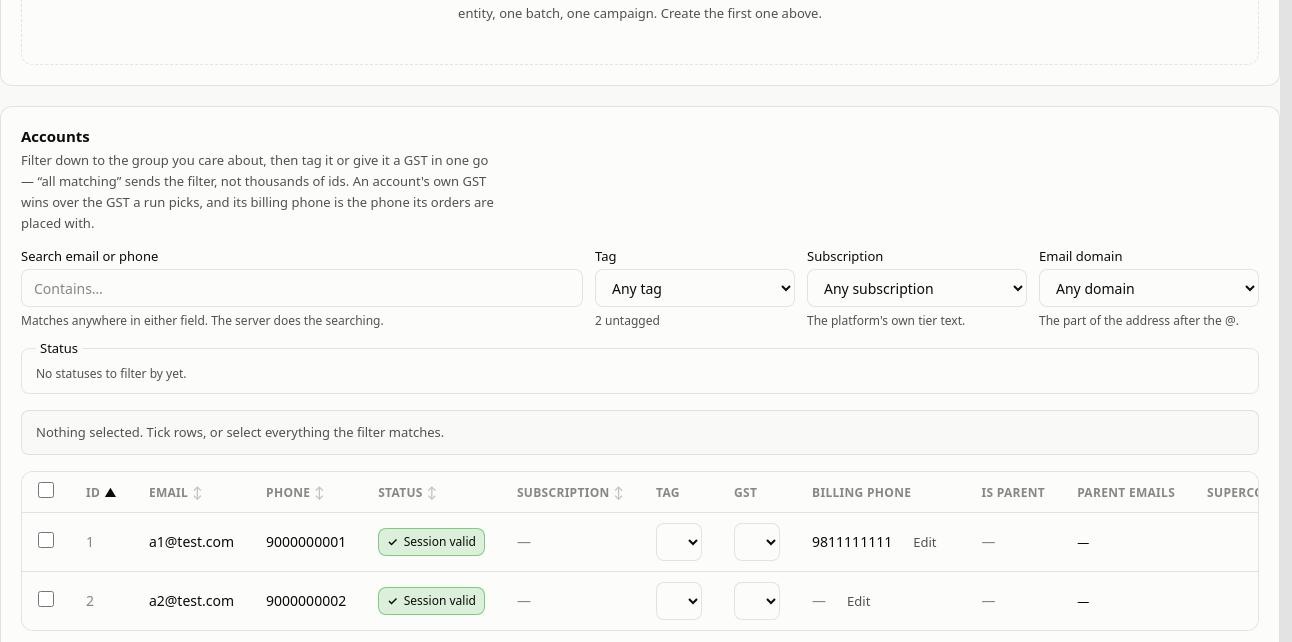
Scenario: Accounts: an account's own GST and billing phone › takes the selection's own GST off with the run's-GST choice
The width and height of the screenshot is (1292, 642).
(page scrolled)
Expected: the text "a2@test.com" is shown, [149,591,234,611]
Expected: the dropdown named "GST for a2@test.com" is enabled, [734,582,780,620]
Click the checkbox named "Select a1@test.com" in the row of "a1@test.com" at (46, 540), box [38,532,54,548]
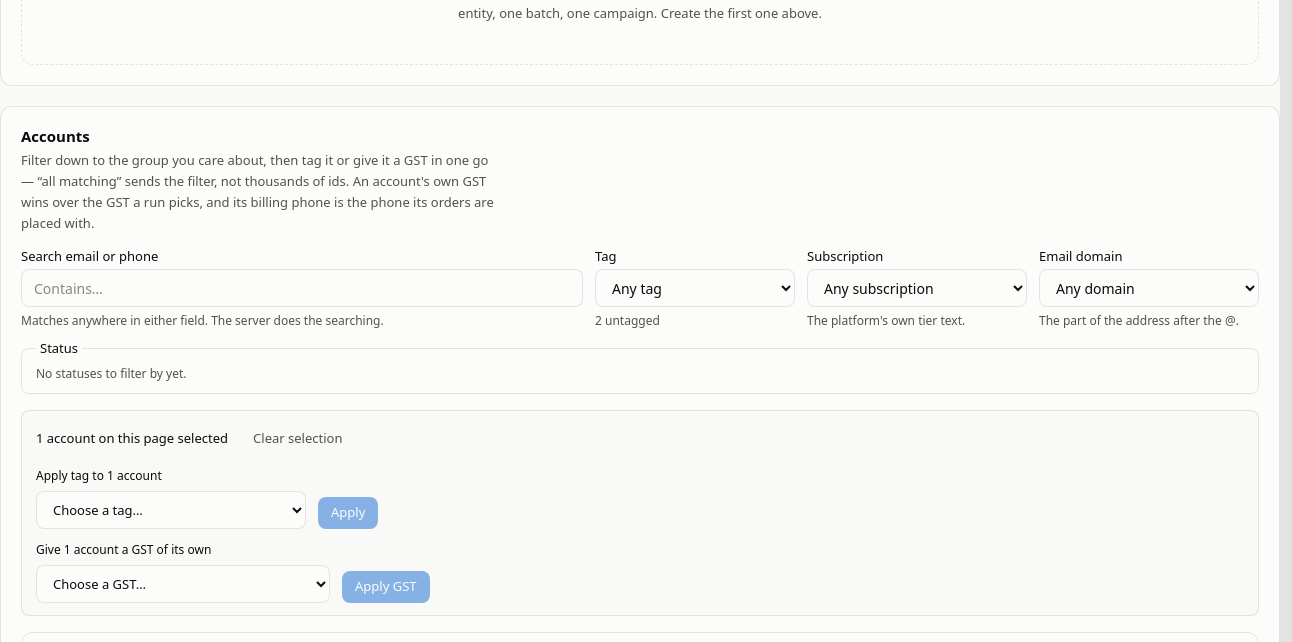
Select "None of their own (use the run's GST)" in the dropdown labelled "Give 1 account a GST of its own" at (183, 584), box [36,565,330,603]
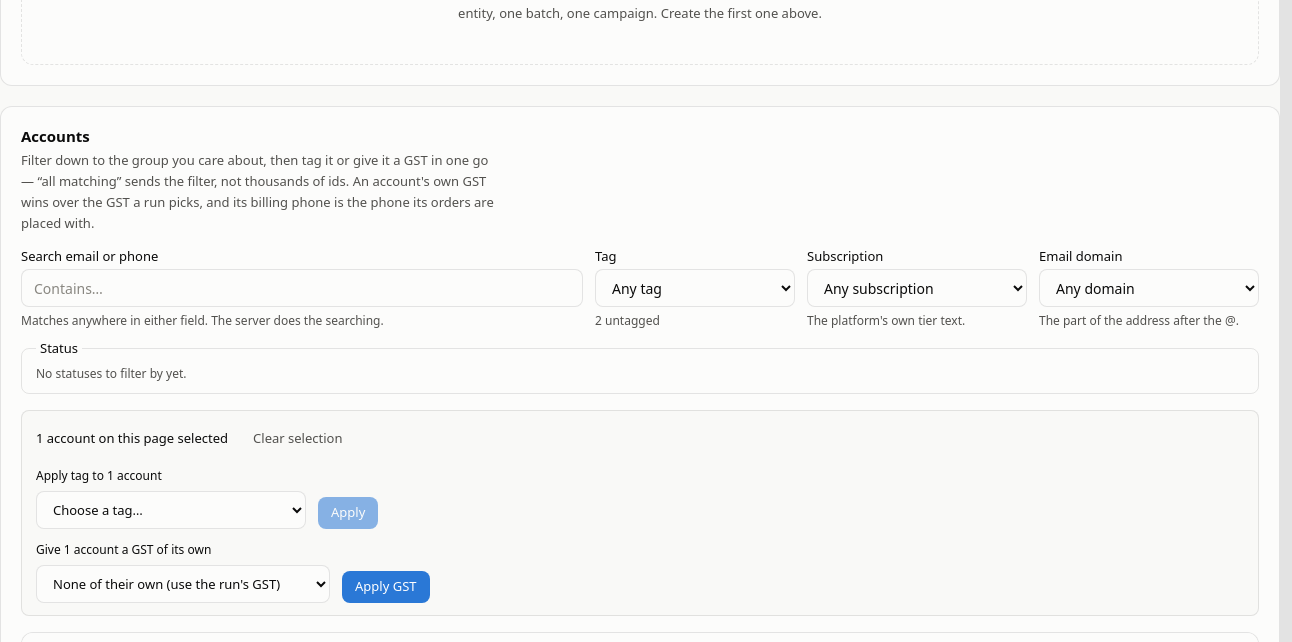
Click the button "Apply GST" at (386, 587), box [342,571,430,603]
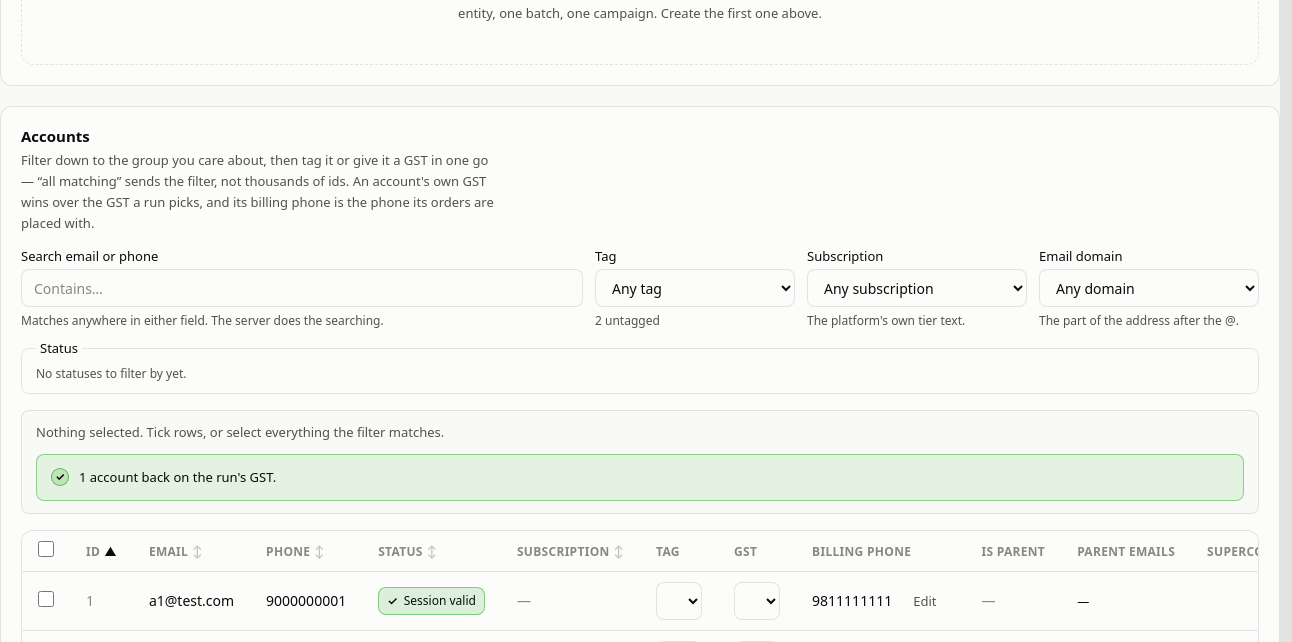
Now the text "1 account back on the run's GST." is shown, box [79,467,276,488]
